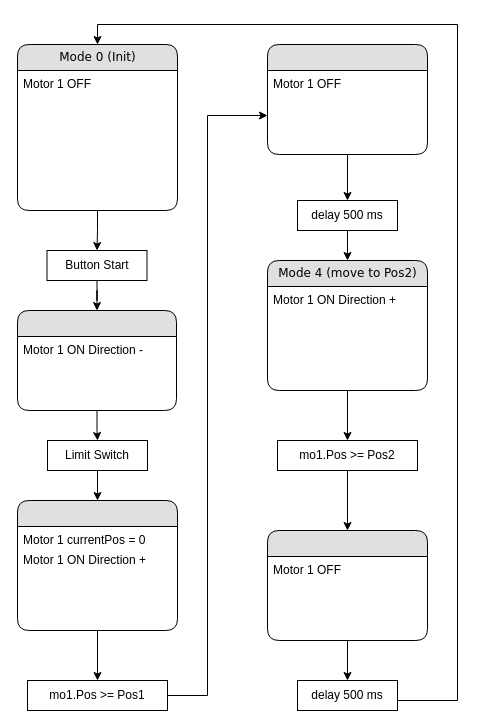
Image size: 483x728. Some labels were removed from this diagram. The shapes that lost their labels are listed below. From the top down, each one's box as (x1, y1, x2, y2) in pixels, then its label:
(266, 44, 428, 154): Mode 3 (Stop at Pos1)
(16, 310, 176, 410): Mode 1 Referencing
(16, 500, 178, 630): Mode 2 (move to Pos1)
(266, 530, 428, 640): Mode 5 (Stop at Pos2)
